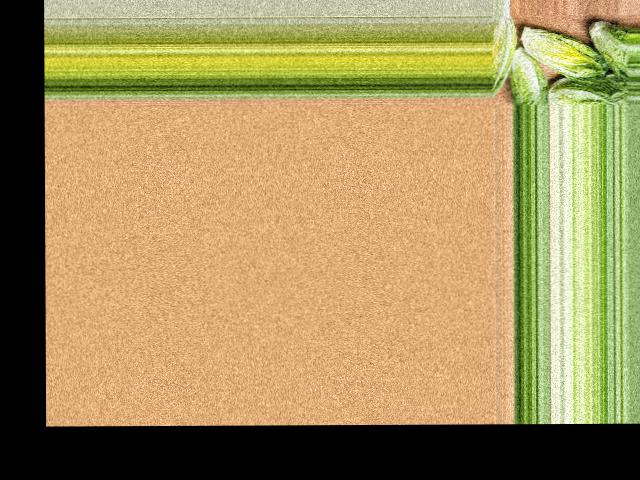lettuce: (490, 16, 519, 95)
